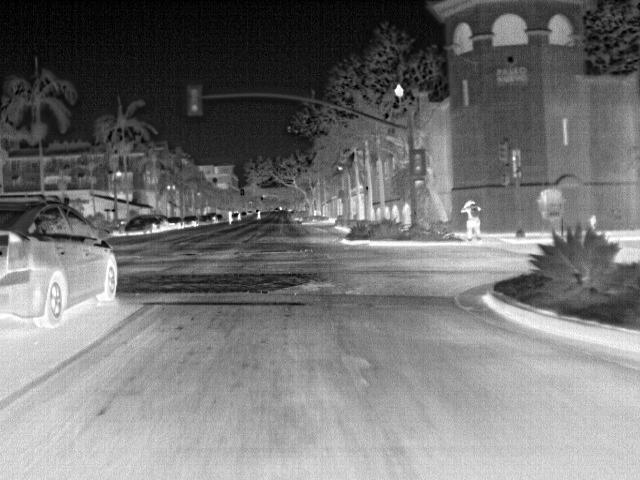car: (0, 198, 120, 330), (125, 216, 152, 234), (164, 215, 182, 227), (181, 214, 196, 226)
person: (461, 200, 484, 244)
